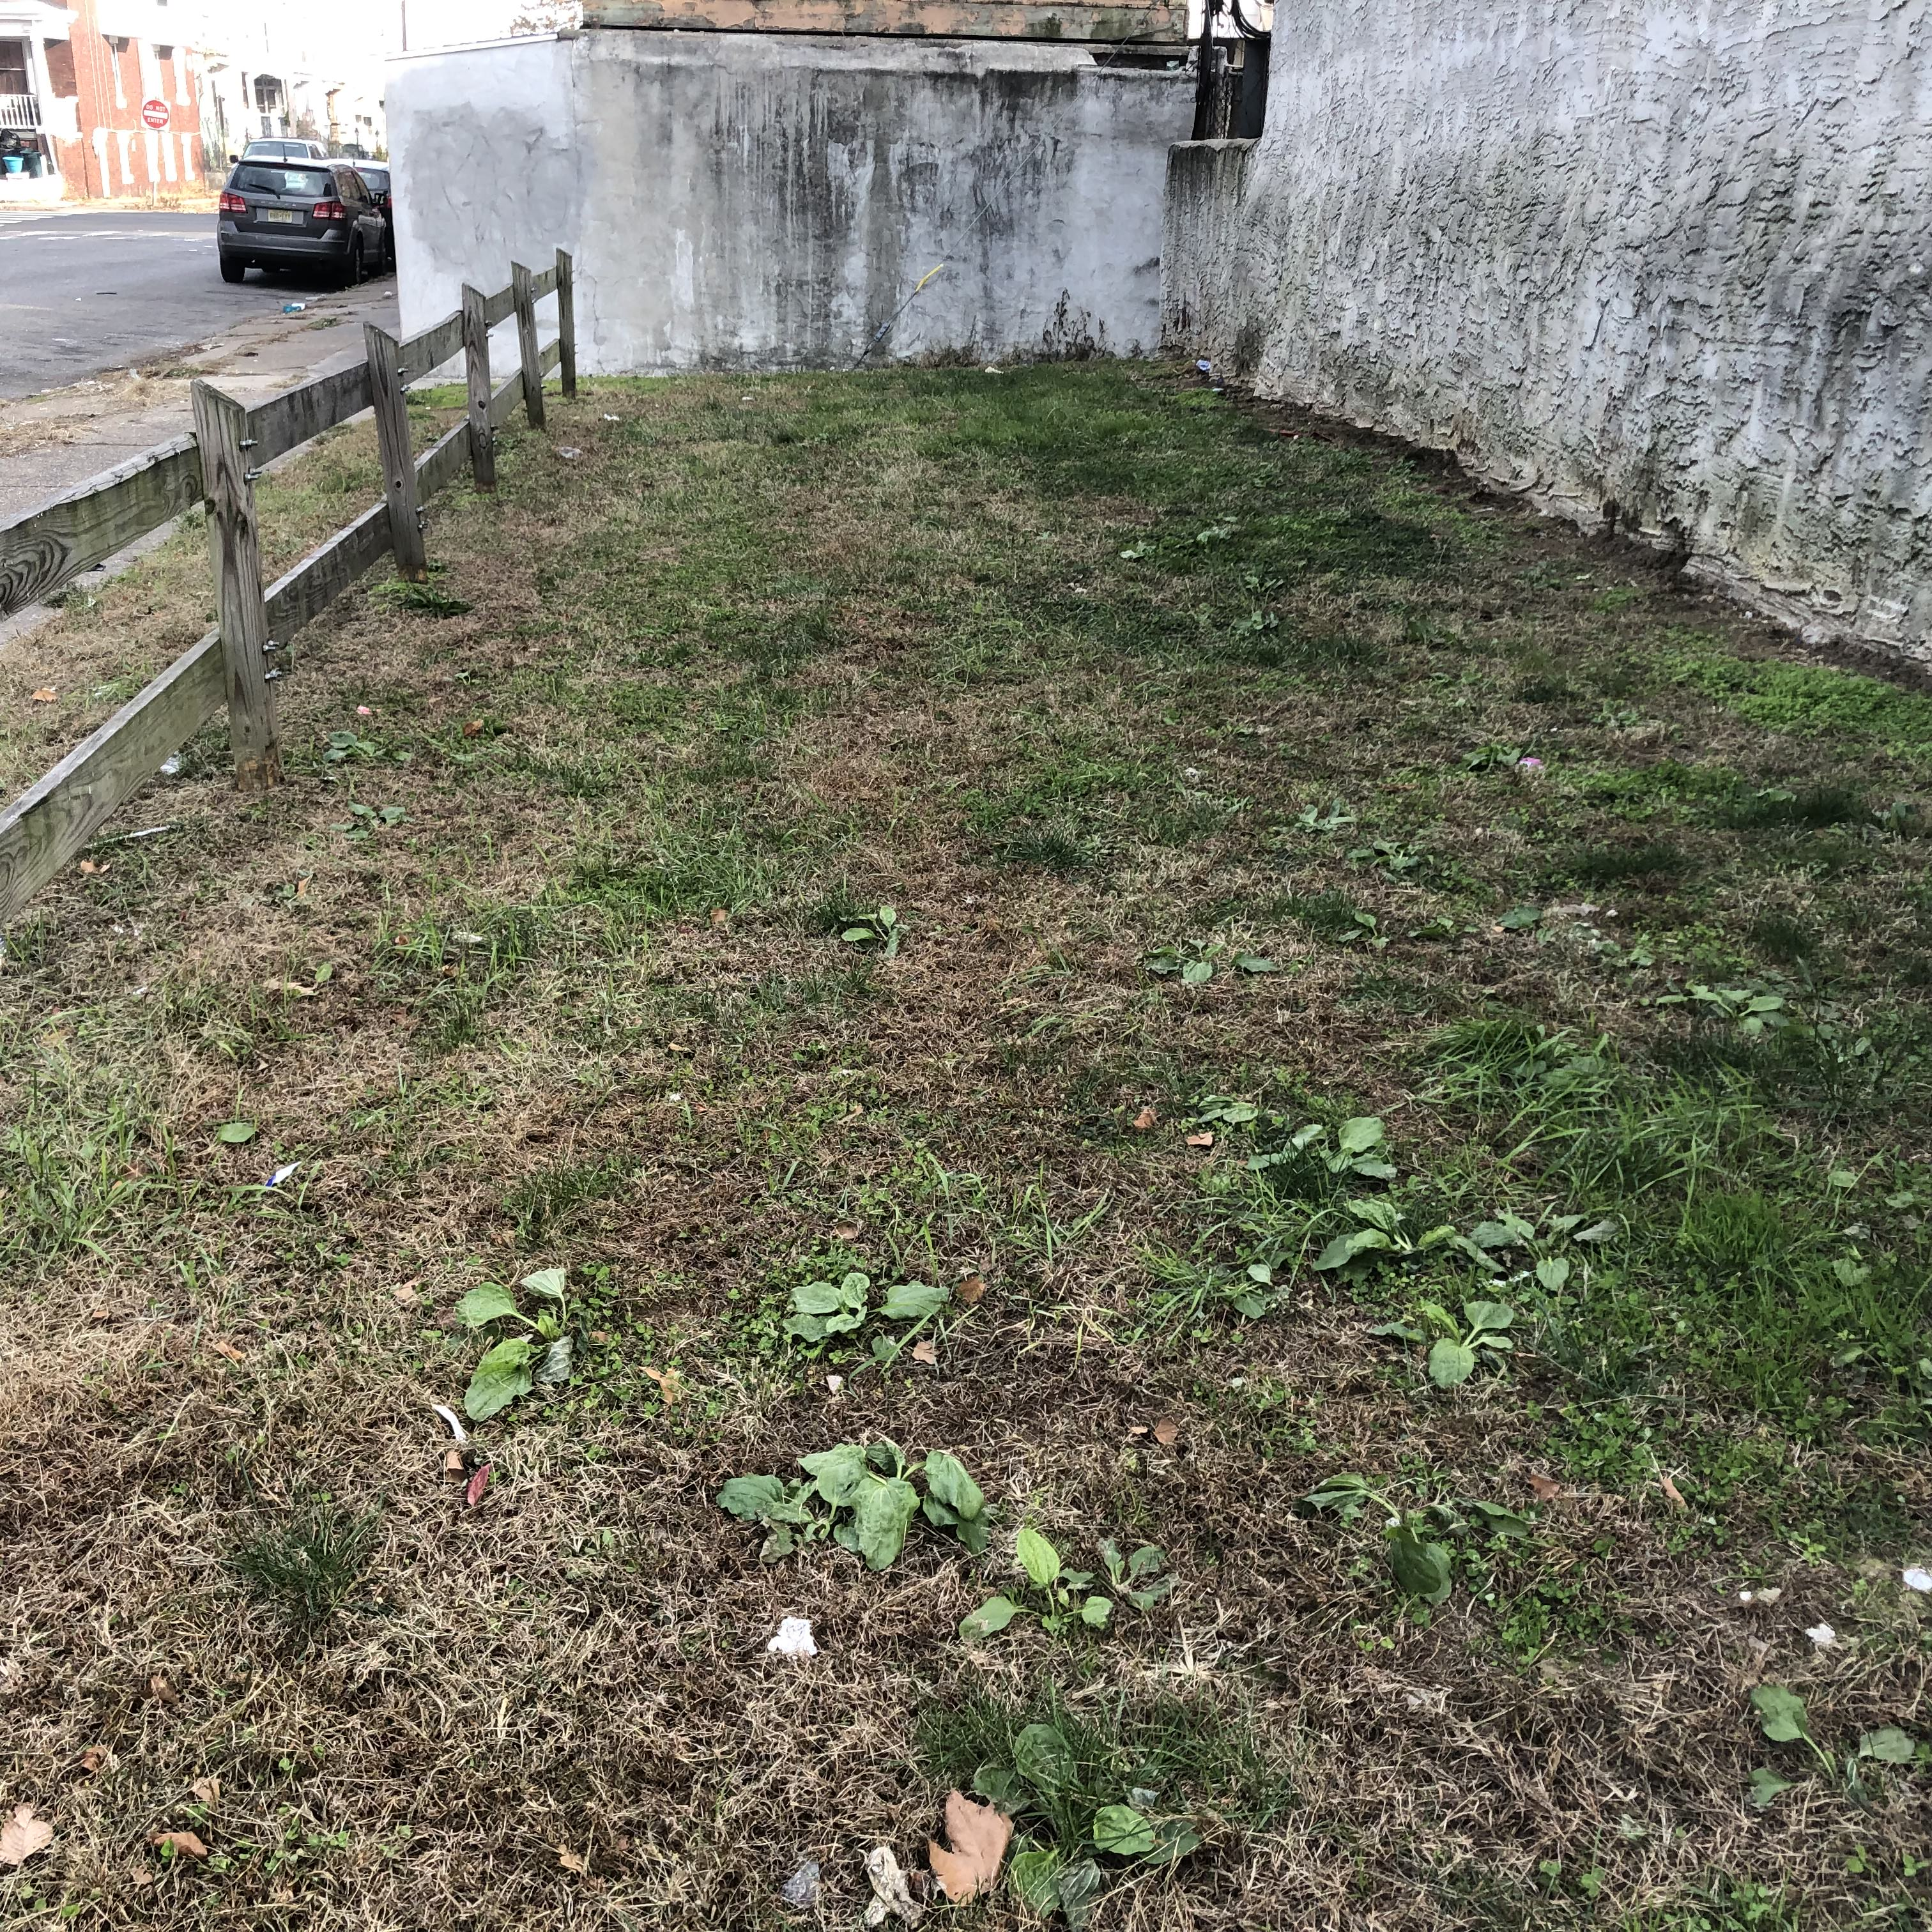good_lawn: (218, 453, 1674, 1730)
trash: (387, 1350, 563, 1539)
